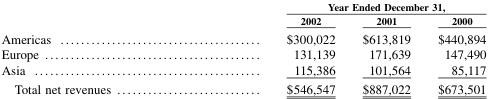table: (0, 0, 485, 95)
table column: (0, 0, 197, 95), (197, 0, 348, 95), (348, 0, 423, 95), (423, 0, 485, 95)
table column header: (0, 0, 485, 28)
table row: (0, 28, 485, 46), (0, 61, 485, 79), (0, 79, 485, 95), (0, 13, 485, 28), (0, 46, 485, 61), (0, 0, 485, 13)
table spanning cell: (197, 0, 485, 13)
